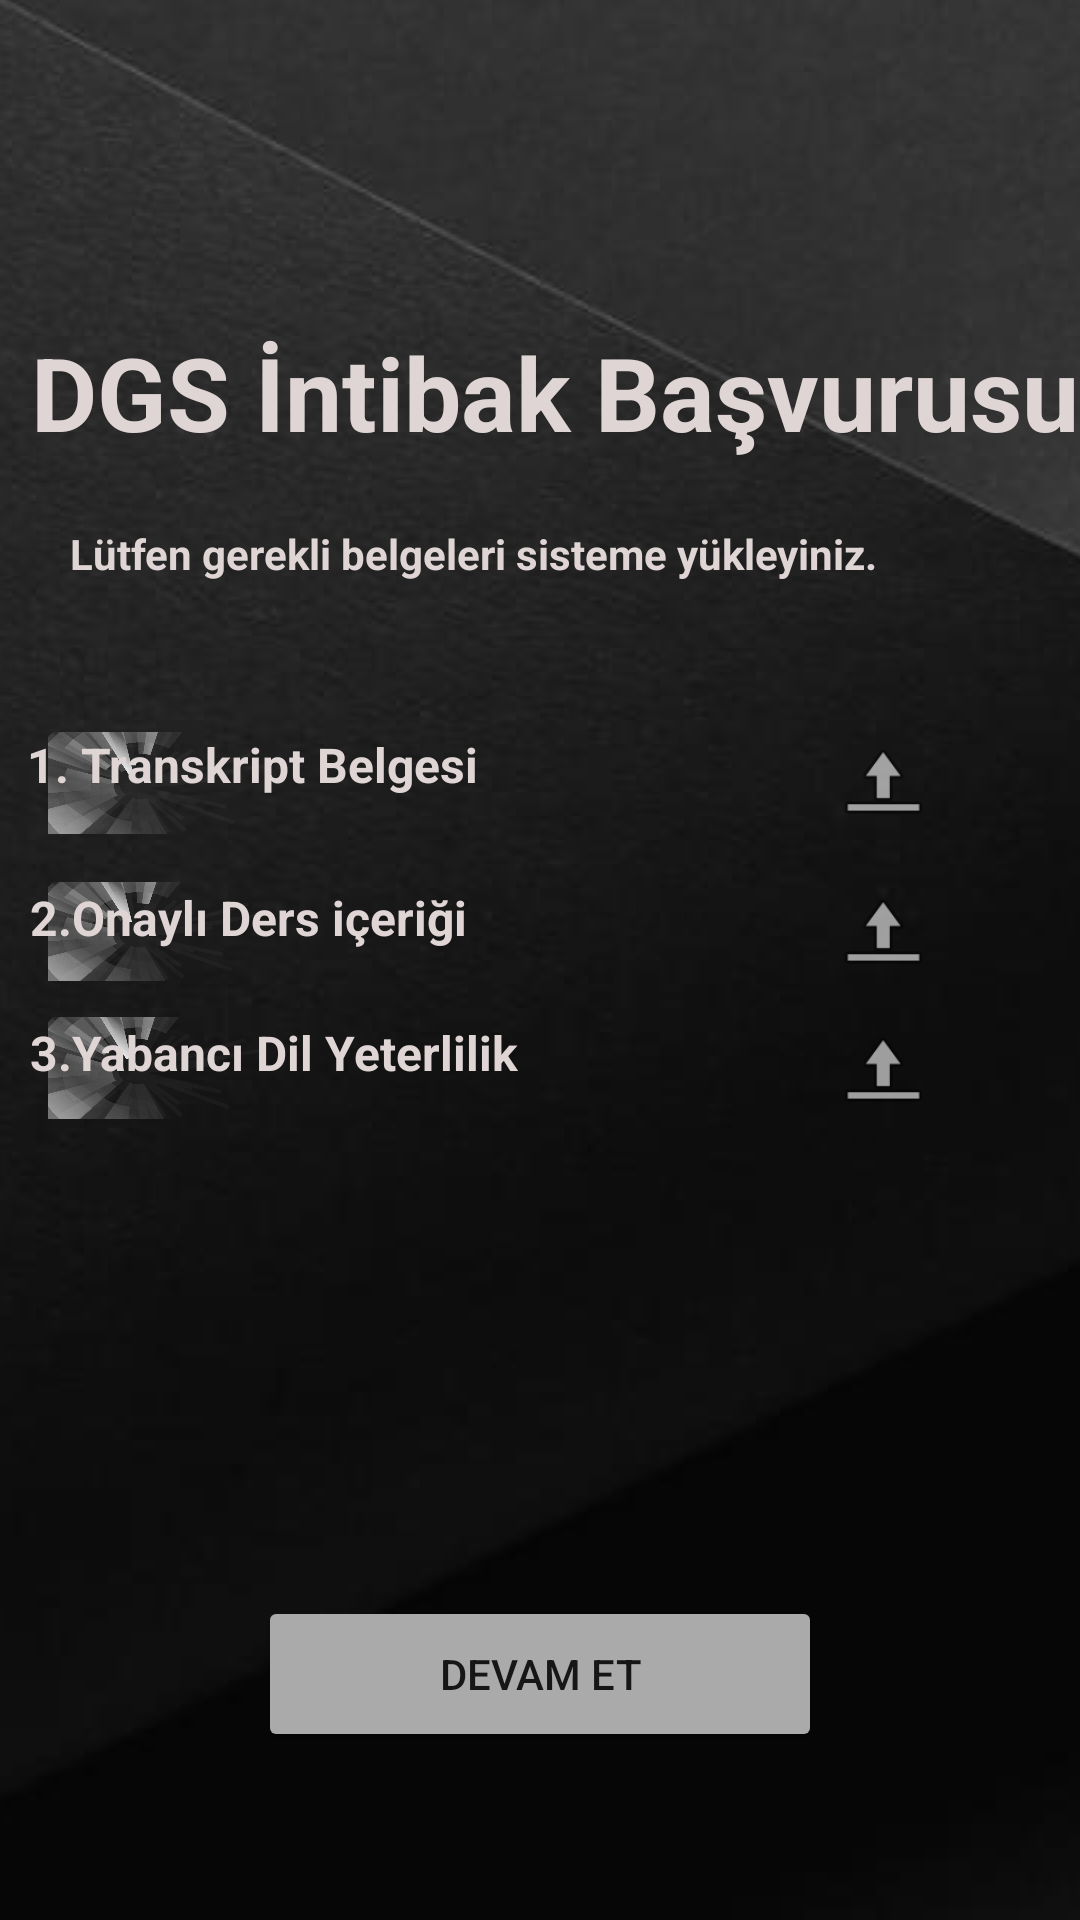

Where icons sit on this 1080x1920 app screen, as (x1=x1, y1=y1, x2=x2, y2=y2):
upload: (x1=847, y1=752, x2=920, y2=811), (x1=847, y1=902, x2=920, y2=961), (x1=847, y1=1040, x2=920, y2=1099)
